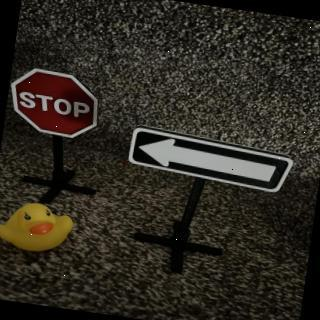duck_regular: (1, 198, 76, 257)
sign_oneway_left: (127, 125, 297, 196)
sign_stop: (6, 66, 105, 143)
